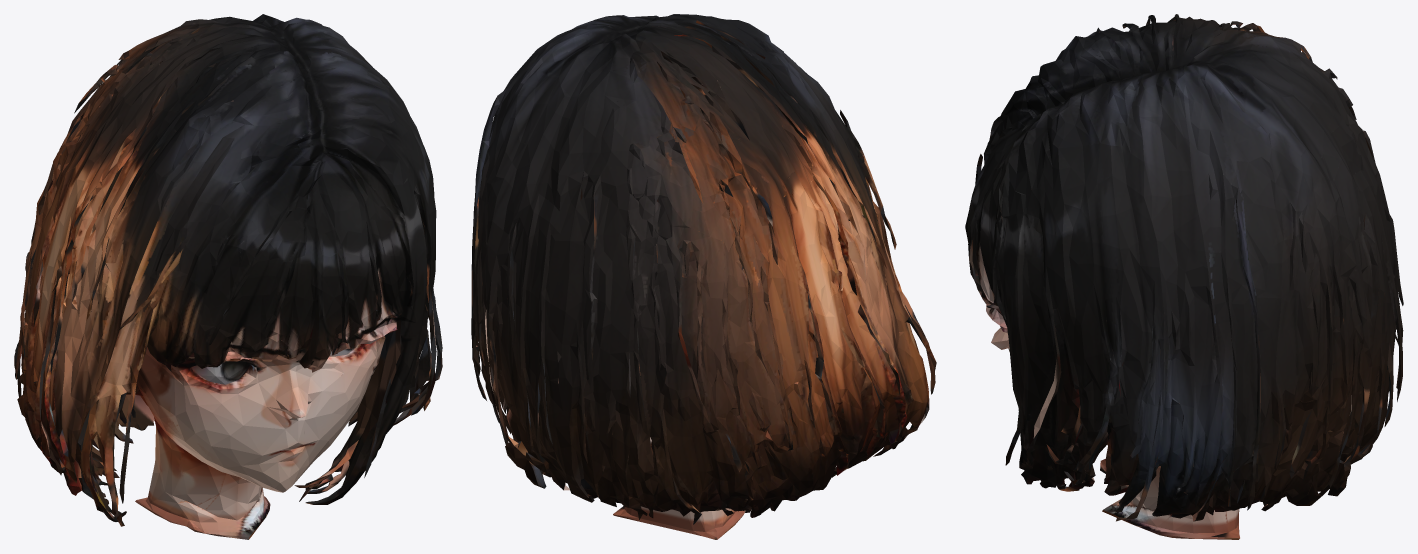
The model's file is side_yuko_lower_neck.glb.
3 renders of one model, left to right at view 1: azimuth 30°, elevation 25°; view 2: azimuth 150°, elevation 25°; view 3: azimuth 270°, elevation 25°, orthographic. The views are drawn at different scales.
Parts seen in each view (by area): view 1: temp_mesh.ply; view 2: temp_mesh.ply; view 3: temp_mesh.ply.
Part boxes in pixels (x1,y1,x2,y2): temp_mesh.ply: [14, 14, 442, 539]; temp_mesh.ply: [471, 14, 936, 539]; temp_mesh.ply: [965, 14, 1403, 539].
Bounding box in the file's own units: 1.71 × 1.97 × 1.58.
Materials: 1 (1 with a texture image).
